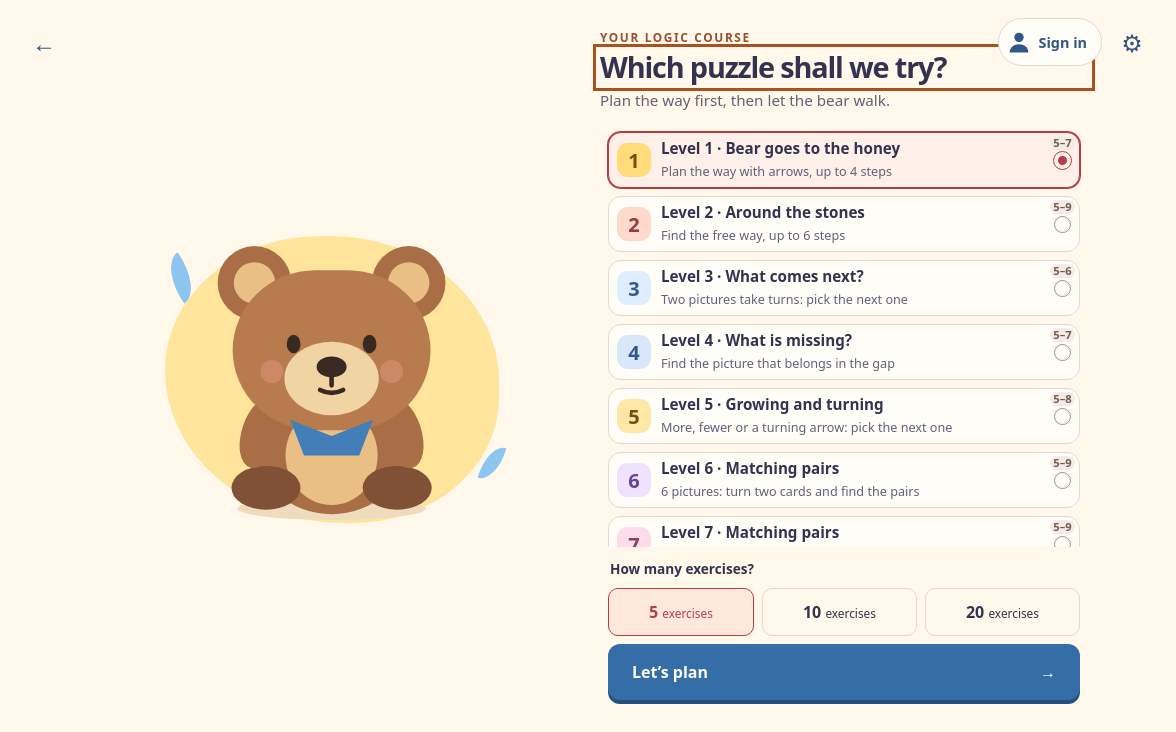
right: the bear walks cell by cell (current slot marked) and ends on the honey
Earlier steps of the test are not shown.
Later steps or results of the test are not shown.
Click the button "Let’s plan →" at (670, 672), box left=608, top=644, right=1080, bottom=700
Wait 3210 ms
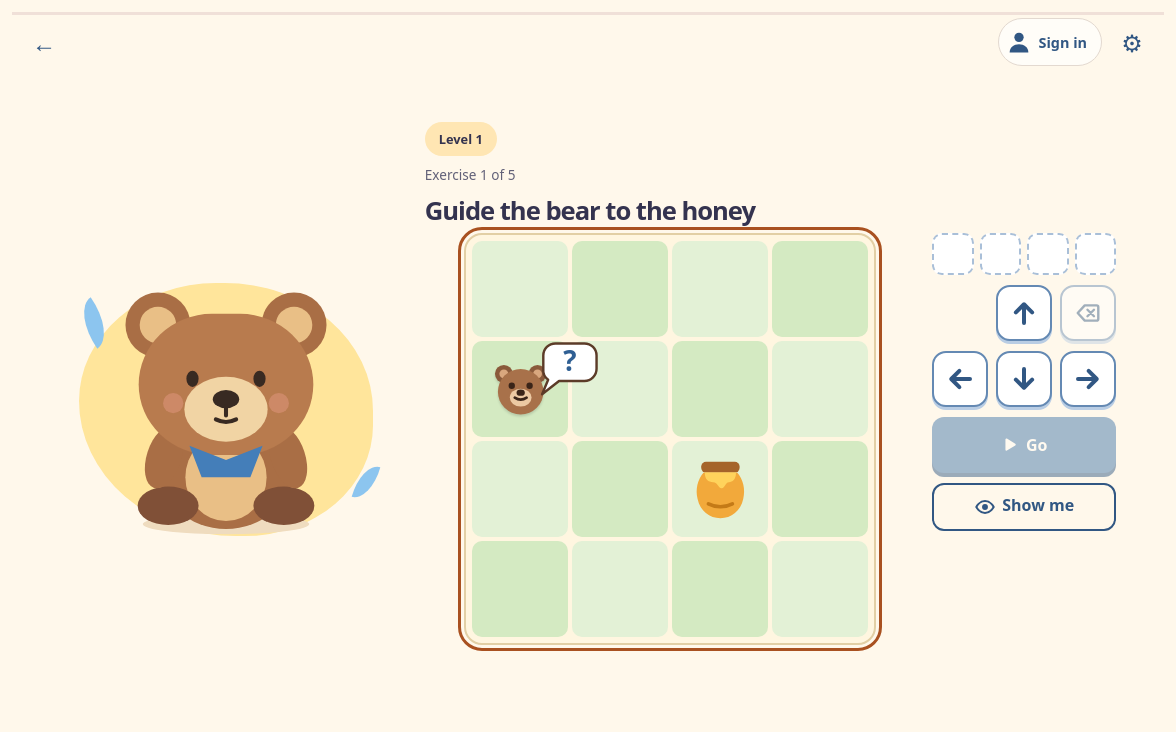
Click the button named "Right" at (1088, 379), box left=1060, top=351, right=1116, bottom=407
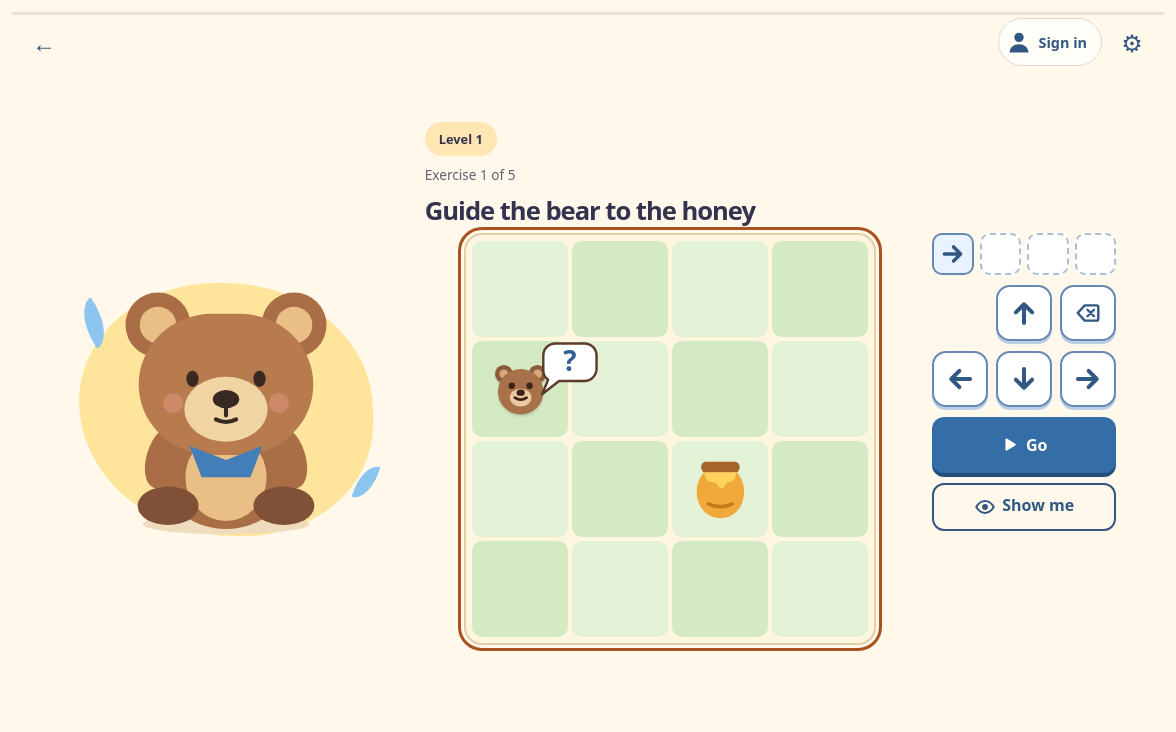
Click the button named "Down" at (1024, 379), box left=996, top=351, right=1052, bottom=407
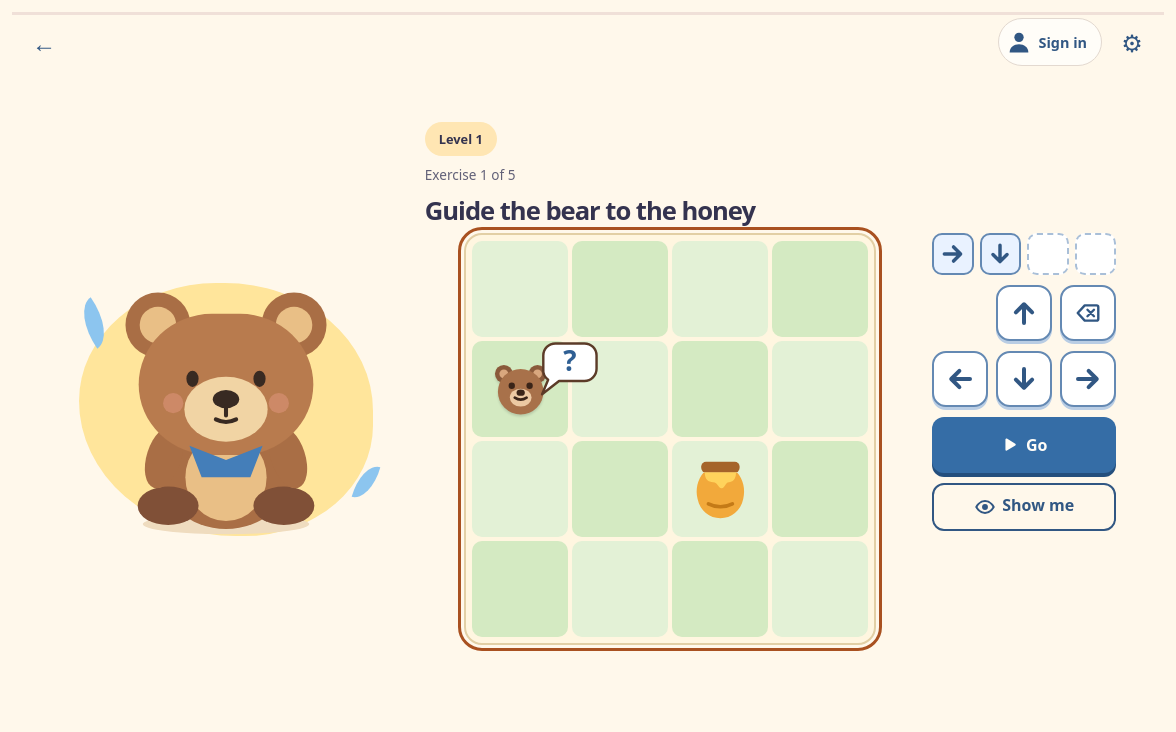
Click the button named "Right" at (1088, 379), box left=1060, top=351, right=1116, bottom=407
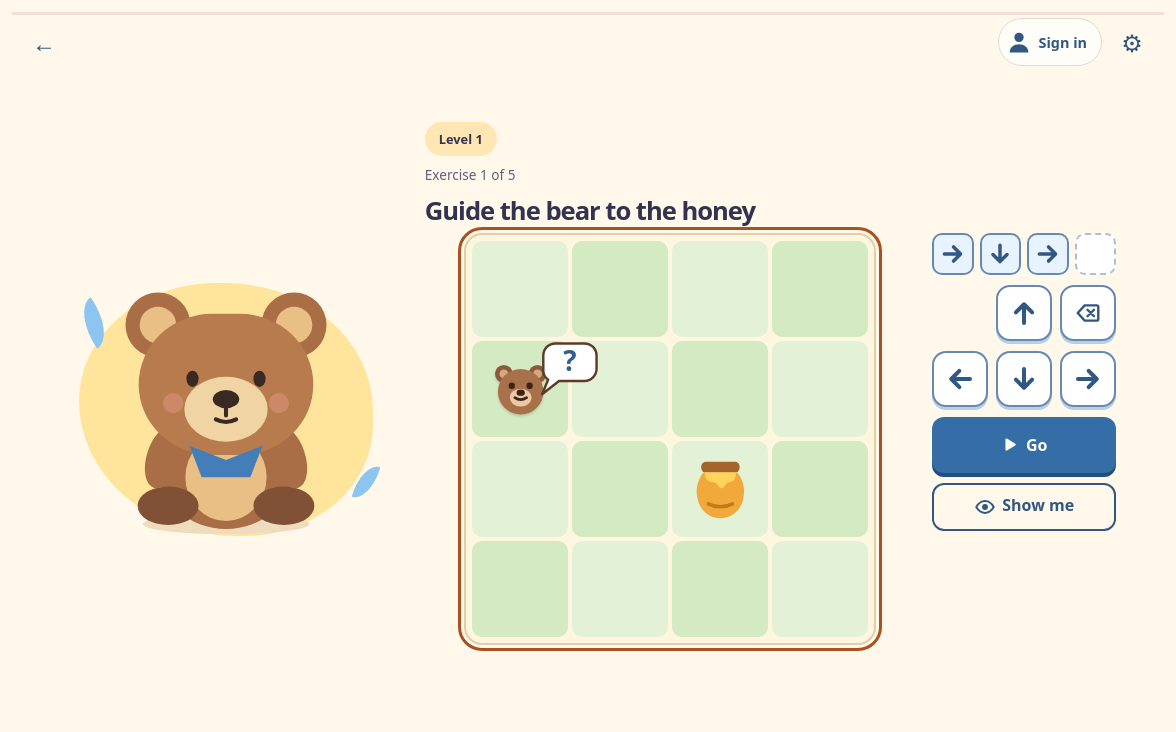
Click the button "Go" at (1024, 445), box left=932, top=417, right=1116, bottom=473
Wait 160 ms
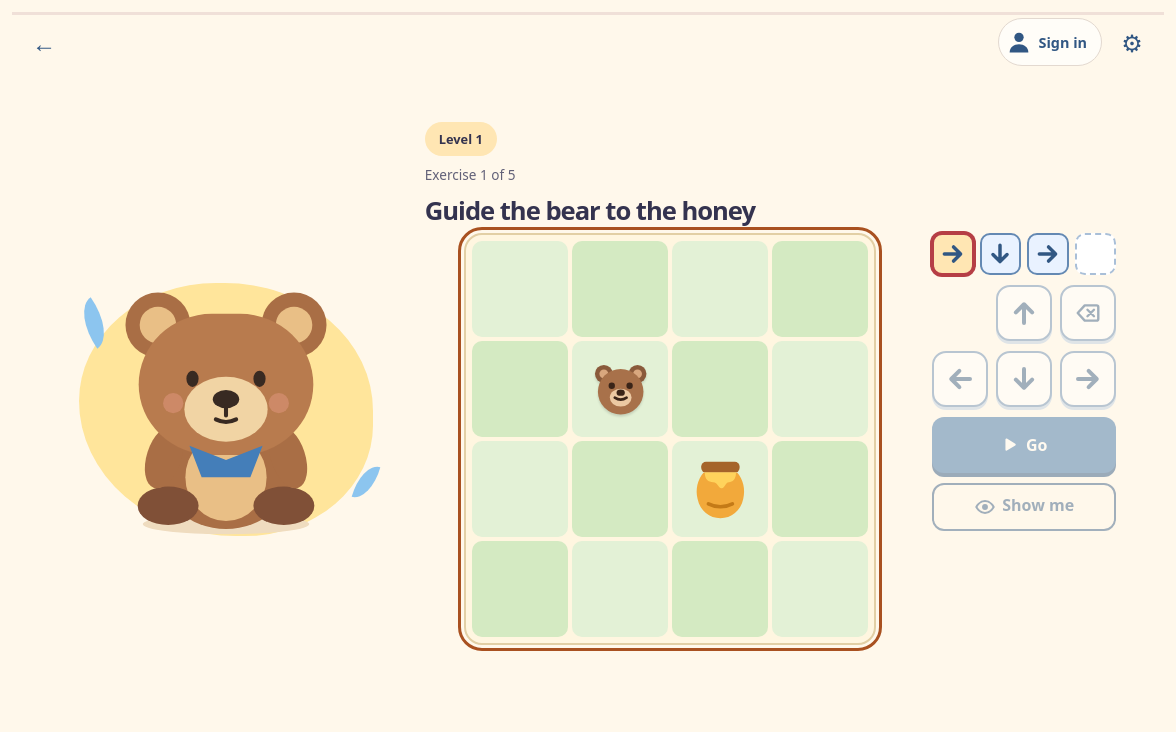
Click the button named "Up" at (1024, 313), box left=996, top=285, right=1052, bottom=341
Click the button named "Remove last arrow" at (1088, 313), box left=1060, top=285, right=1116, bottom=341
Wait 1200 ms
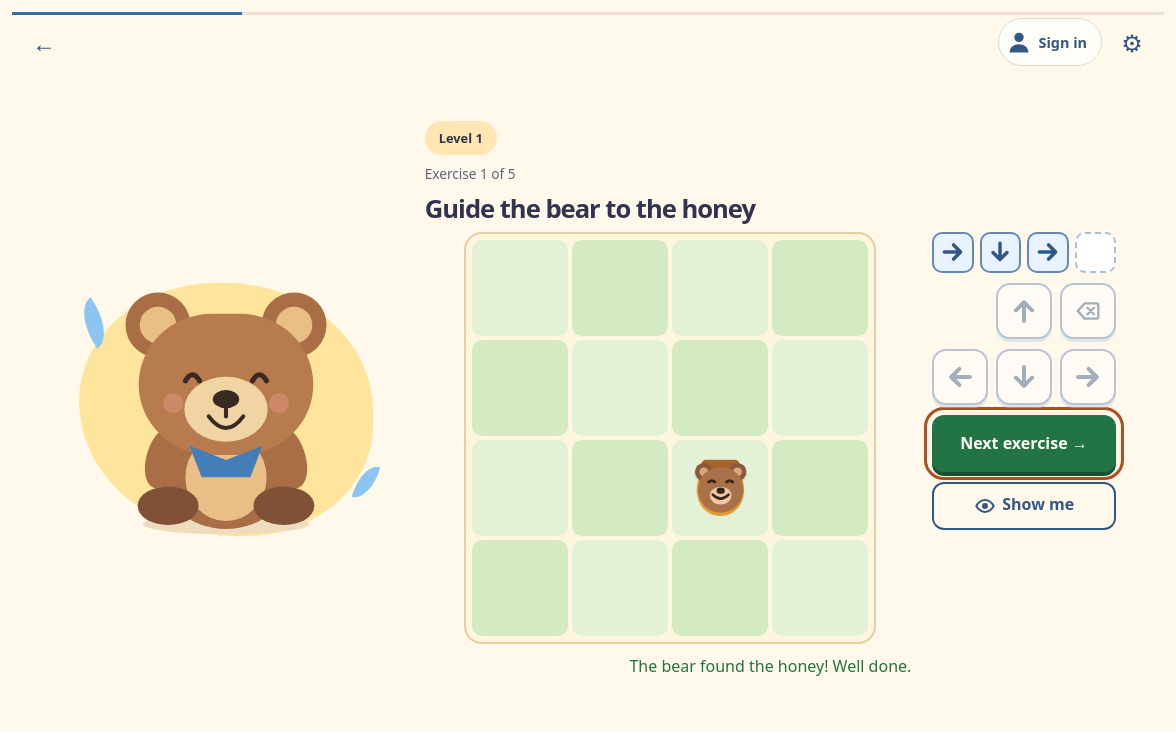
Expected: the message with id "answer-feedback" reads "The bear found the honey! Well done.", left=630, top=655, right=911, bottom=677
